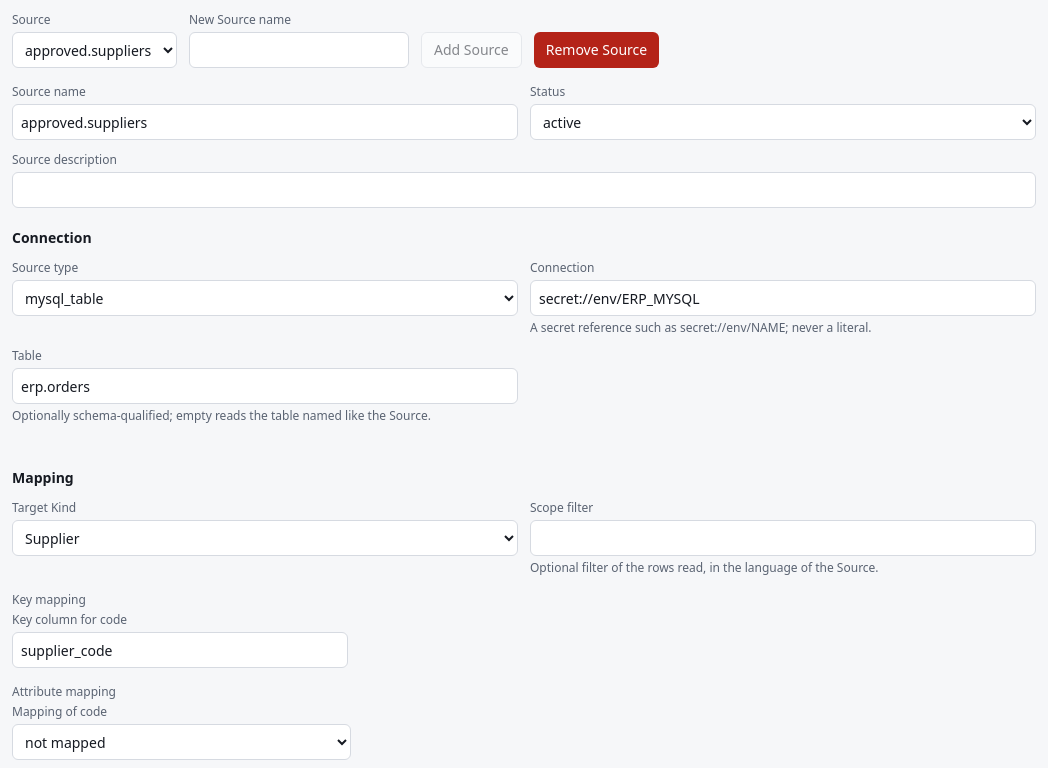
Source editor › offers the MySQL and SQL Server types and keeps their definition on a round trip
Expected: the field labelled "Table" holds "erp.orders", [12,368,518,404]
Expected: the field labelled "Query" is not shown
Select "mssql_query" in the dropdown labelled "Source type". click: (265, 298)
box: [12,280,518,316]
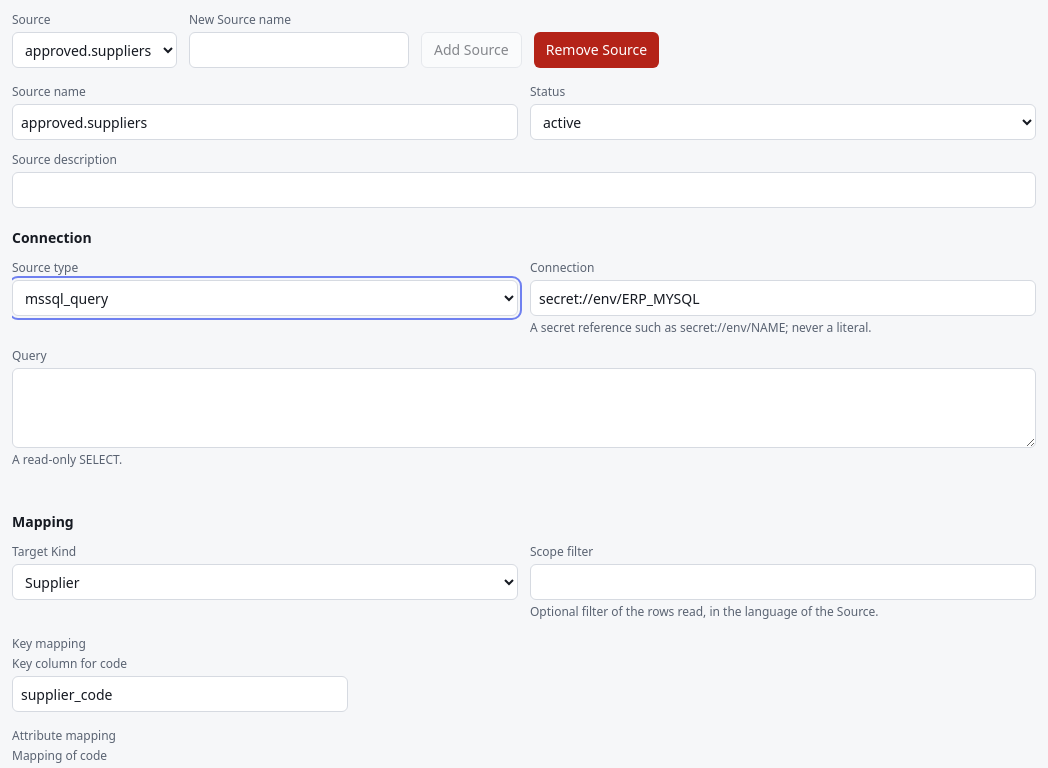
Type "SELECT 1 AS a" into the text box labelled "Query". click: (524, 408)
box: [12,368,1036,448]
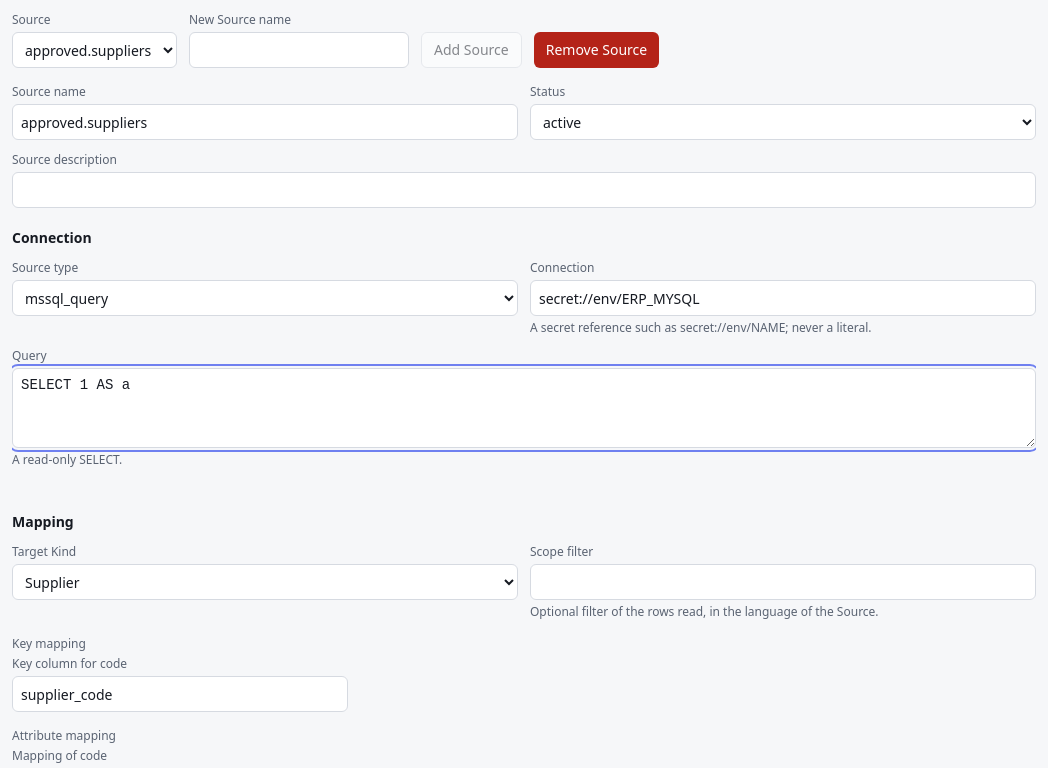
Select "mssql_table" in the dropdown labelled "Source type". click: (265, 298)
box: [12,280,518,316]
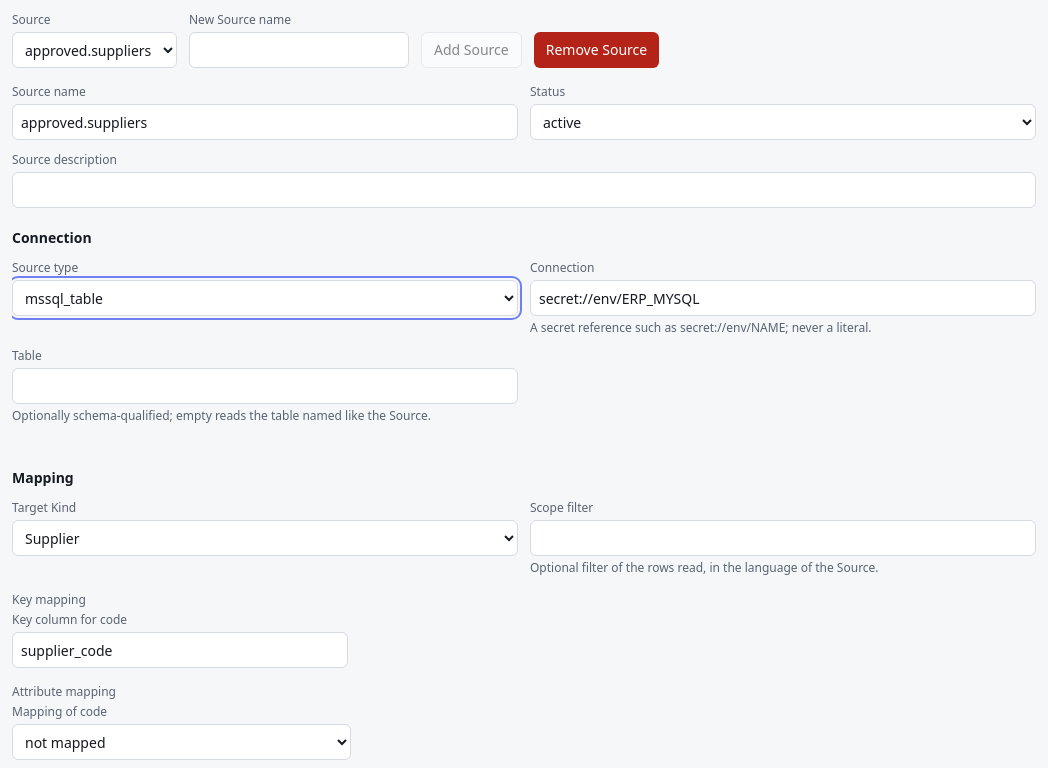
Result: the field labelled "Table" is shown at [12,368,518,404]
